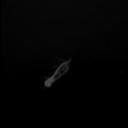fish: (42, 57, 70, 87)
